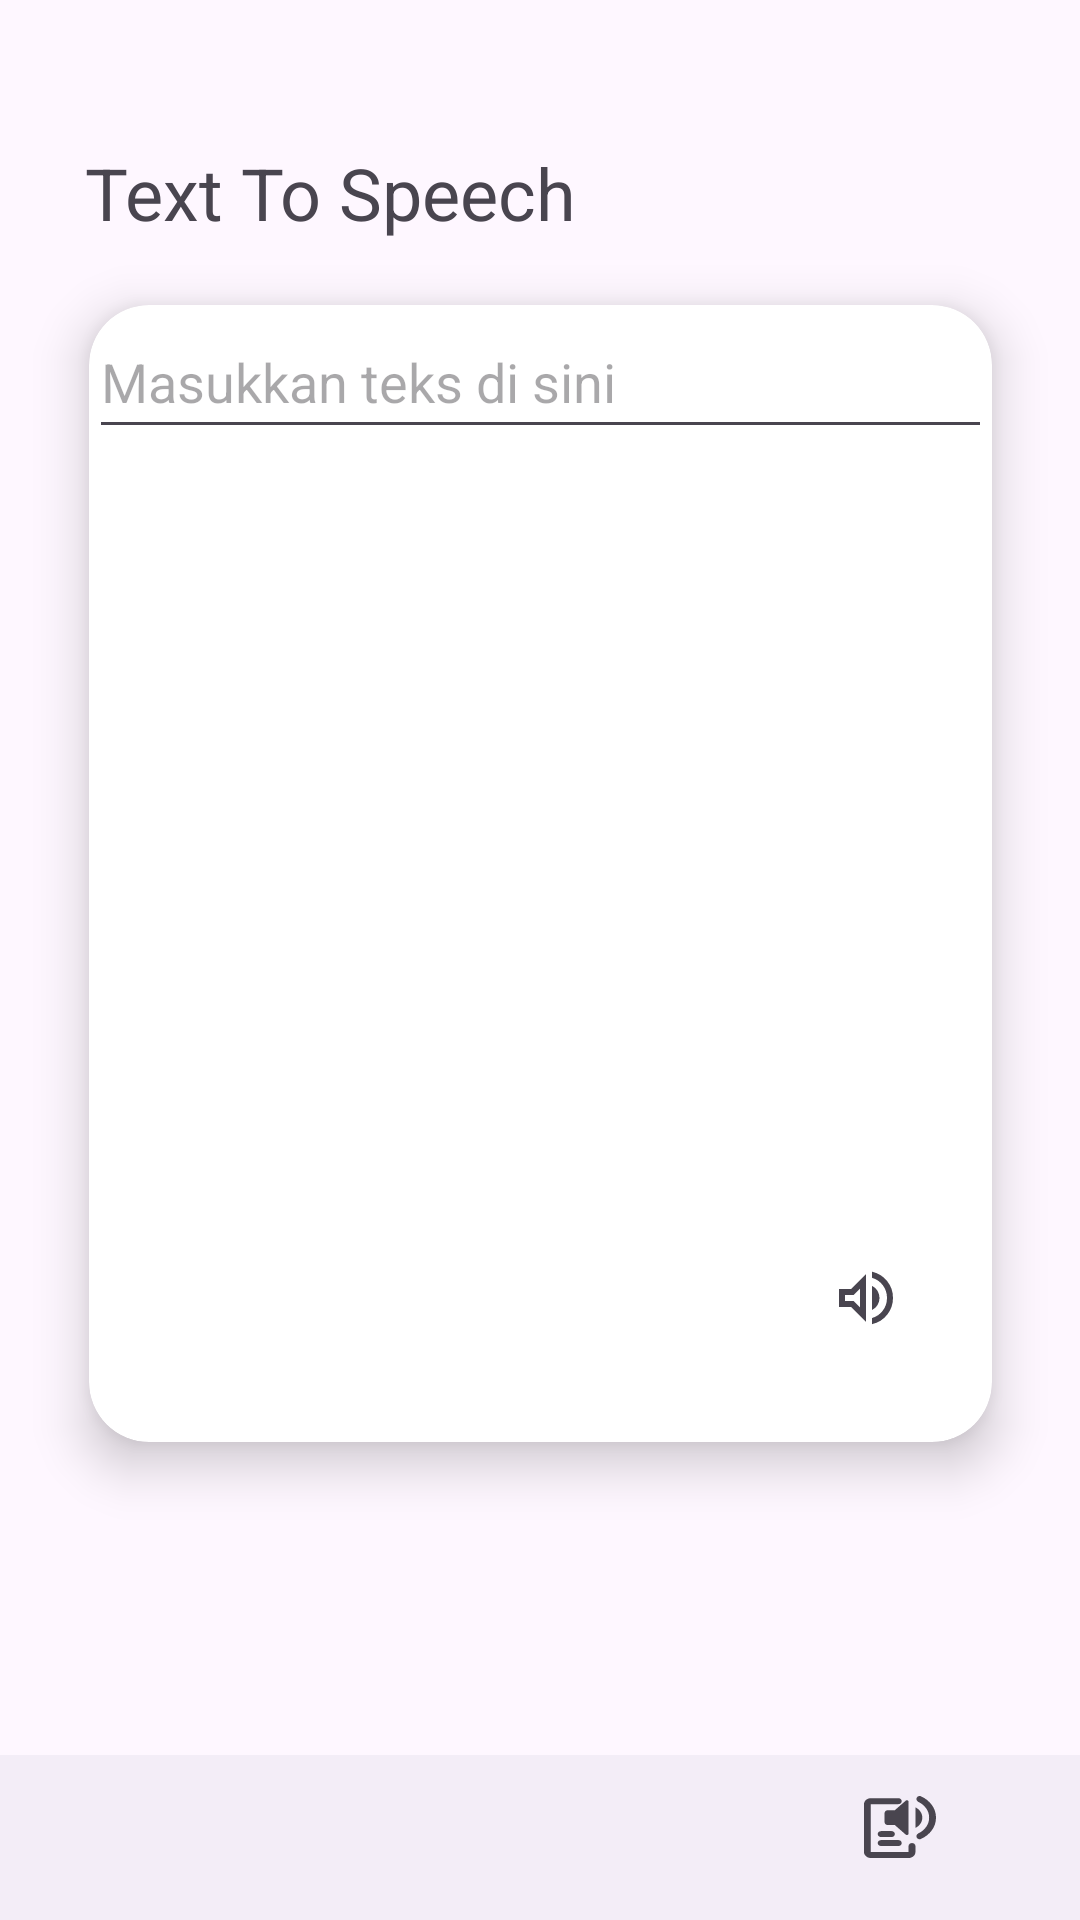

Where icons sit on this 1080 × 1920 app screen, as (x1, y1, x2, y2):
volume up: (839, 1271, 893, 1324)
